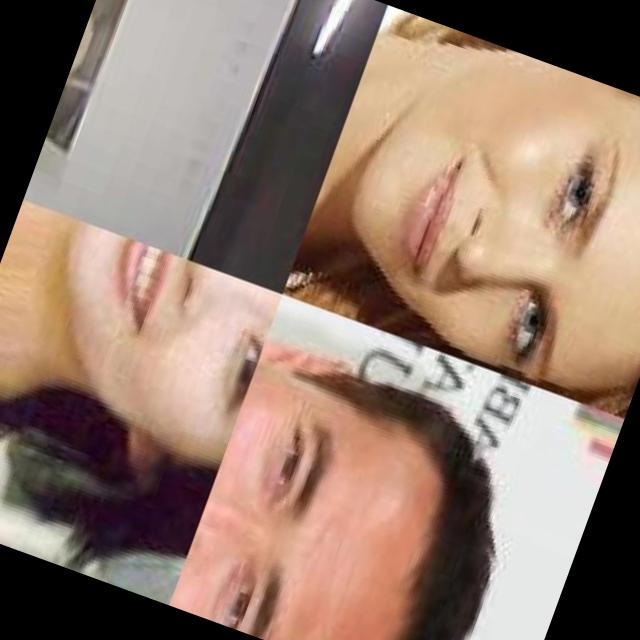bareface: (287, 9, 640, 417)
